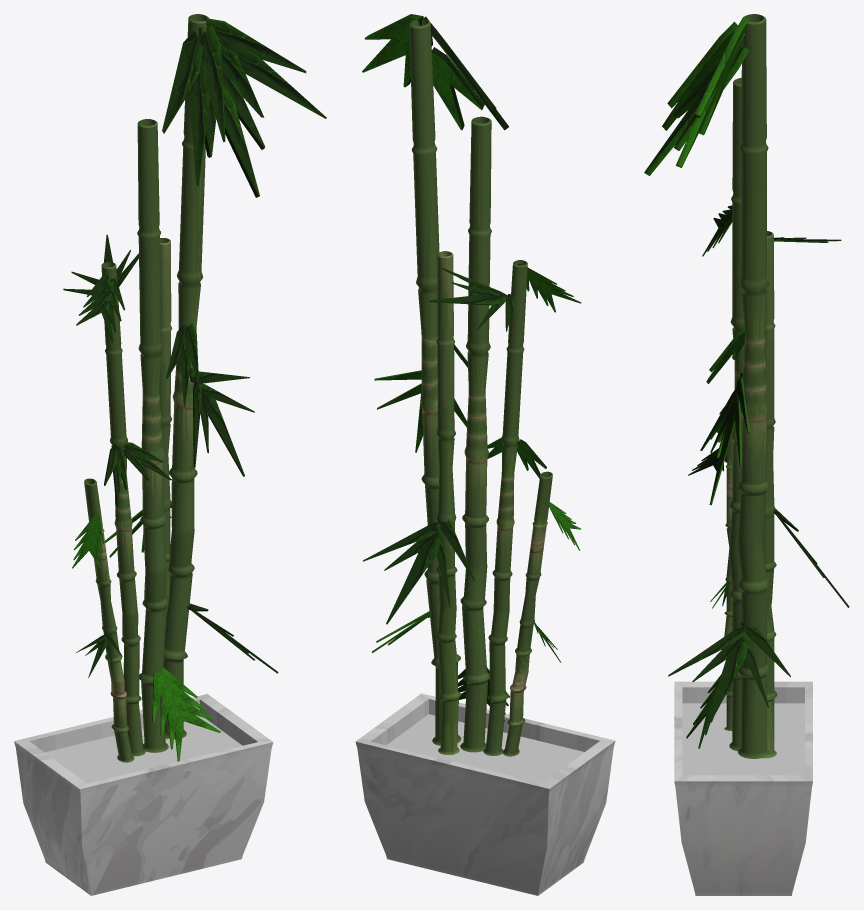
The model's file is Bamboo.obj.
3 views of the same model, side by side, from view 1: azimuth 30°, elevation 25°; view 2: azimuth 150°, elevation 25°; view 3: azimuth 270°, elevation 25° (orthographic). The views are drawn at different scales.
Parts seen in each view (by area): view 1: pCube1, pCylinder2, pCylinder5, pCylinder1, pCube19, pCube17, pCylinder4, pCylinder3, pCube30, pCube18, pCube9, pCube29 (+5 smaller); view 2: pCube1, pCylinder2, pCylinder5, pCylinder3, pCylinder1, pCylinder4, pCube33, pCube18, pCube17, pCube15, pCube9, pCube19 (+1 smaller); view 3: pCube1, pCylinder5, pCylinder2, pCylinder3, pCube8, pCube17, pCube18, pCube9, pCube19, pCylinder4, pCube32, pCube30 (+2 smaller).
Part boxes in pixels (box(x1,y1,x2,y2)): pCube1: box(14, 694, 273, 895); pCylinder2: box(137, 119, 168, 752); pCylinder5: box(163, 14, 209, 739); pCylinder1: box(101, 261, 145, 756); pCube19: box(162, 25, 225, 185); pCube17: box(204, 18, 326, 118); pCylinder4: box(84, 478, 134, 762); pCylinder3: box(159, 238, 172, 739); pCube30: box(151, 667, 220, 761); pCube18: box(204, 74, 264, 197); pCube9: box(189, 368, 254, 476); pCube29: box(76, 272, 125, 342); pCube1: box(355, 693, 615, 895); pCylinder2: box(460, 116, 491, 752); pCylinder5: box(409, 19, 461, 745); pCylinder3: box(436, 251, 461, 754); pCylinder1: box(483, 260, 527, 755); pCylinder4: box(502, 471, 552, 756); pCube33: box(363, 517, 474, 624); pCube18: box(432, 47, 484, 130); pCube17: box(362, 14, 432, 87); pCube15: box(429, 268, 515, 331); pCube9: box(374, 370, 467, 452); pCube19: box(424, 16, 508, 130); pCube1: box(674, 681, 812, 895); pCylinder5: box(737, 14, 770, 758); pCylinder2: box(728, 77, 744, 751); pCylinder3: box(762, 231, 777, 758); pCube8: box(668, 621, 790, 733); pCube17: box(676, 17, 748, 167); pCube18: box(644, 47, 749, 175); pCube9: box(700, 372, 749, 505); pCube19: box(662, 21, 737, 130); pCylinder4: box(724, 438, 732, 730); pCube32: box(706, 327, 745, 383); pCube30: box(686, 674, 721, 748).
Size of the model in its own units: 2.19 by 6.93 by 1.48.
